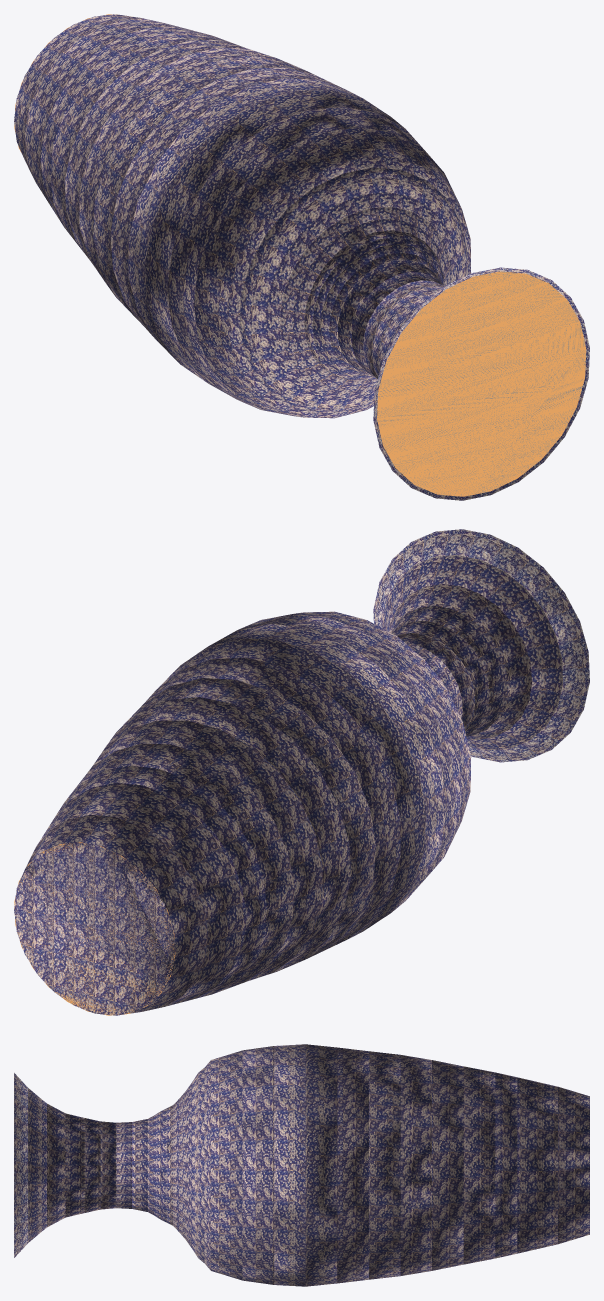
The model's file is model_scale.obj.
3 renders of one model, top to bottom at view 1: azimuth 30°, elevation 25°; view 2: azimuth 150°, elevation 25°; view 3: azimuth 270°, elevation 25°, orthographic. The views are drawn at different scales.
Parts seen in each view (by area): view 1: mesh34_mesh34-geometry, mesh6_mesh6-geometry, mesh5_mesh5-geometry, mesh3_mesh3-geometry, mesh4_mesh4-geometry, mesh9_mesh9-geometry, mesh15_mesh15-geometry, mesh30_mesh30-geometry, mesh7_mesh7-geometry, mesh10_mesh10-geometry, mesh24_mesh24-geometry, mesh23_mesh23-geometry (+17 smaller); view 2: mesh25_mesh25-geometry, mesh14_mesh14-geometry, mesh28_mesh28-geometry, mesh24_mesh24-geometry, mesh22_mesh22-geometry, mesh30_mesh30-geometry, mesh4_mesh4-geometry, mesh15_mesh15-geometry, mesh23_mesh23-geometry, mesh29_mesh29-geometry, mesh3_mesh3-geometry, mesh26_mesh26-geometry (+9 smaller); view 3: mesh4_mesh4-geometry, mesh5_mesh5-geometry, mesh3_mesh3-geometry, mesh30_mesh30-geometry, mesh15_mesh15-geometry, mesh6_mesh6-geometry, mesh24_mesh24-geometry, mesh14_mesh14-geometry, mesh22_mesh22-geometry, mesh23_mesh23-geometry, mesh25_mesh25-geometry, mesh26_mesh26-geometry (+18 smaller).
Boxes of the visible parts, x1,y1,x2,y2 form: mesh34_mesh34-geometry: (377, 271, 586, 496); mesh6_mesh6-geometry: (193, 127, 460, 417); mesh5_mesh5-geometry: (167, 106, 441, 409); mesh3_mesh3-geometry: (145, 89, 403, 382); mesh4_mesh4-geometry: (128, 78, 361, 363); mesh9_mesh9-geometry: (249, 176, 466, 410); mesh15_mesh15-geometry: (93, 55, 315, 325); mesh30_mesh30-geometry: (110, 67, 345, 338); mesh7_mesh7-geometry: (227, 156, 471, 418); mesh10_mesh10-geometry: (264, 192, 459, 400); mesh24_mesh24-geometry: (79, 47, 276, 295); mesh23_mesh23-geometry: (49, 30, 242, 257); mesh25_mesh25-geometry: (14, 815, 207, 1015); mesh14_mesh14-geometry: (36, 783, 246, 1006); mesh28_mesh28-geometry: (373, 529, 589, 762); mesh24_mesh24-geometry: (106, 697, 350, 974); mesh22_mesh22-geometry: (91, 720, 322, 981); mesh30_mesh30-geometry: (145, 658, 400, 953); mesh4_mesh4-geometry: (156, 638, 426, 938); mesh15_mesh15-geometry: (117, 678, 375, 958); mesh23_mesh23-geometry: (66, 743, 294, 993); mesh29_mesh29-geometry: (381, 555, 562, 750); mesh3_mesh3-geometry: (189, 624, 446, 912); mesh26_mesh26-geometry: (55, 765, 266, 998); mesh4_mesh4-geometry: (305, 1044, 337, 1286); mesh5_mesh5-geometry: (242, 1046, 274, 1284); mesh3_mesh3-geometry: (274, 1044, 305, 1286); mesh30_mesh30-geometry: (337, 1047, 368, 1283); mesh15_mesh15-geometry: (369, 1051, 400, 1279); mesh6_mesh6-geometry: (211, 1050, 242, 1280); mesh24_mesh24-geometry: (400, 1055, 431, 1275); mesh14_mesh14-geometry: (517, 1077, 557, 1253); mesh22_mesh22-geometry: (432, 1060, 463, 1270); mesh23_mesh23-geometry: (463, 1066, 495, 1264); mesh25_mesh25-geometry: (558, 1086, 589, 1244); mesh26_mesh26-geometry: (495, 1072, 517, 1258).
Bounding box in the file's own units: 0.0543 × 0.0543 × 0.1292.
4 materials, 1 textured.
